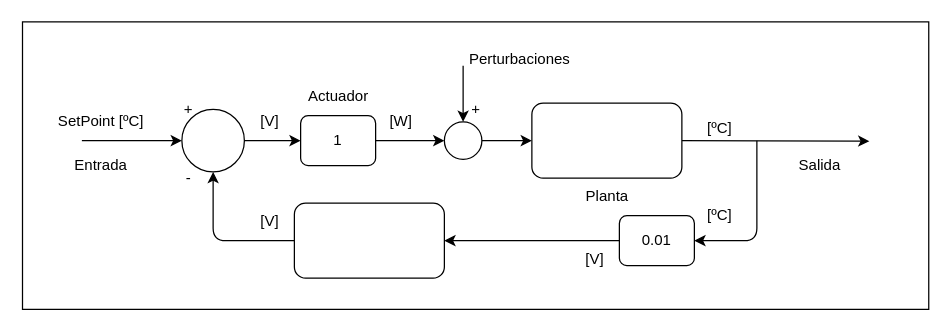
The diagram is 950 pixels wide and 331 high, and some of its shapes have lost their labels. Each missing label, with the centre of its shape:
G(s) = (0.275)/(22.68*s+1): the point at 606,140
H(s) = 1.5/(0.0318*s+1): the point at 368,240
